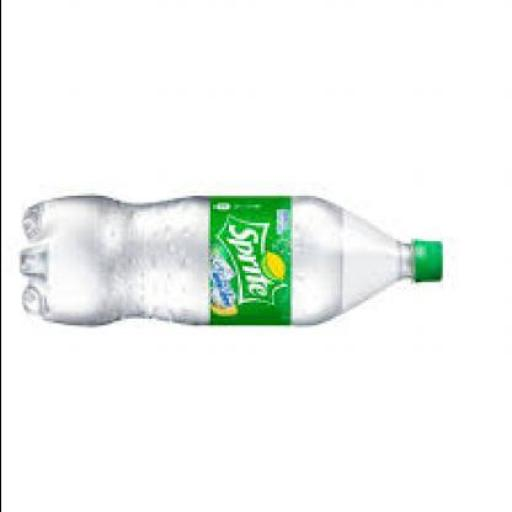plastic: (20, 191, 444, 328), (212, 193, 293, 324), (414, 237, 444, 280)
